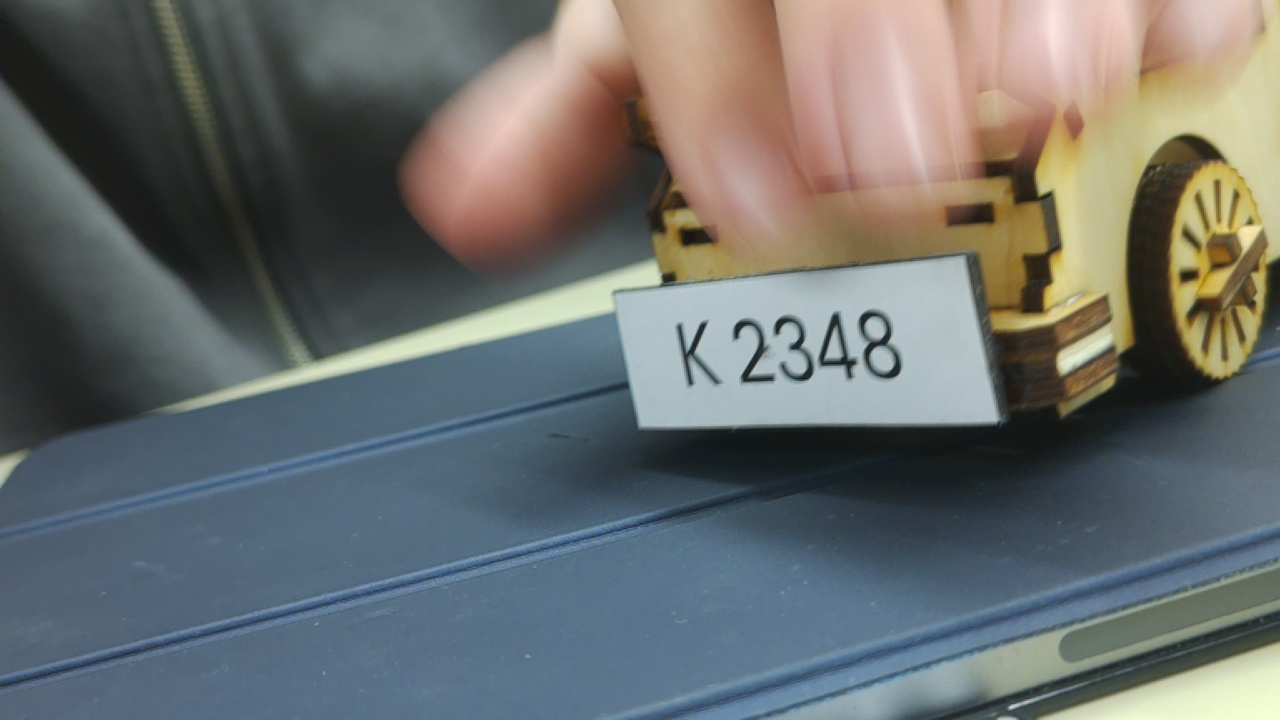license_plate: (602, 241, 1007, 439)
